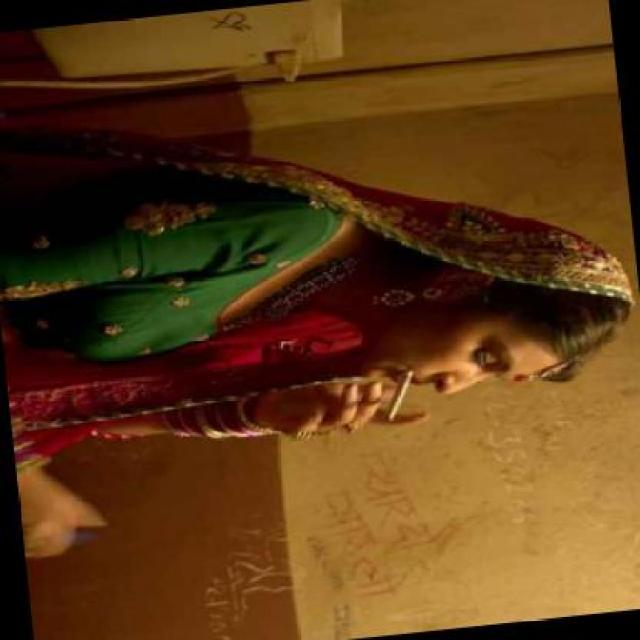cigarette: (378, 366, 418, 422)
